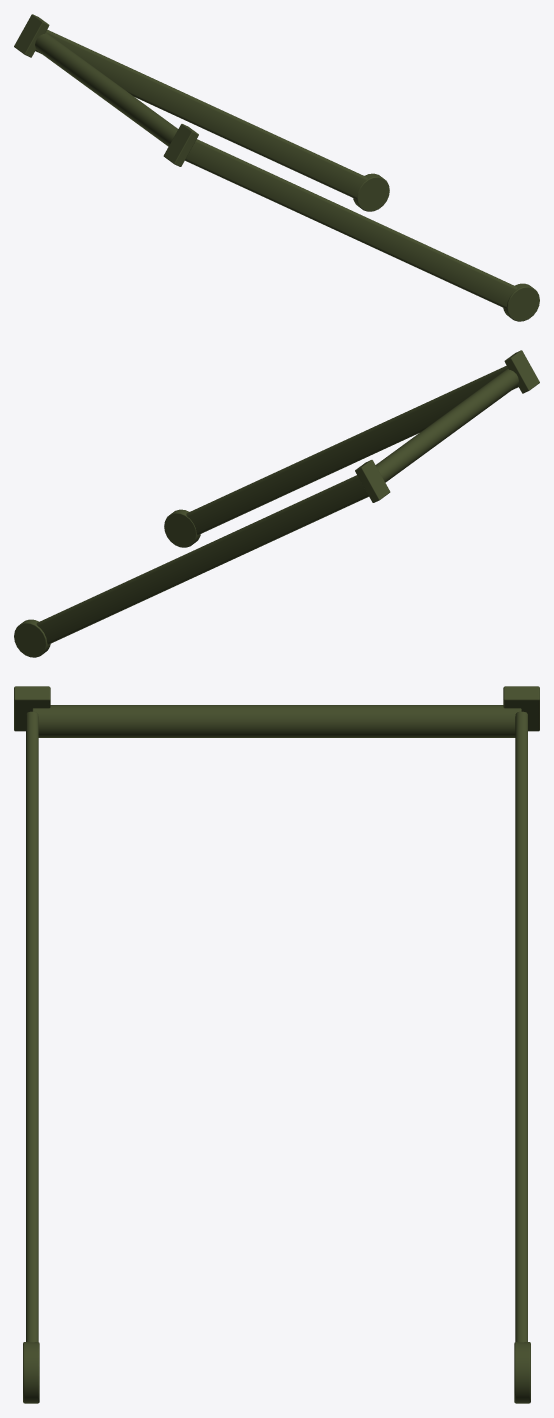
The model's file is bike_vintage_vtwin__side_stand.glb.
The picture shows the model from 3 angles, top to bottom: view 1: azimuth 30°, elevation 25°; view 2: azimuth 150°, elevation 25°; view 3: azimuth 270°, elevation 25°; orthographic projection. The views are drawn at different scales.
Visible parts, largest first — view 1: chassis__rear_stand; view 2: chassis__rear_stand; view 3: chassis__rear_stand.
Part boxes in pixels (<box>): chassis__rear_stand: <box>14,14,539,321</box>; chassis__rear_stand: <box>14,350,539,657</box>; chassis__rear_stand: <box>14,686,539,1403</box>.
Bounding box in the file's own units: 38.14 × 27.04 × 28.8.
